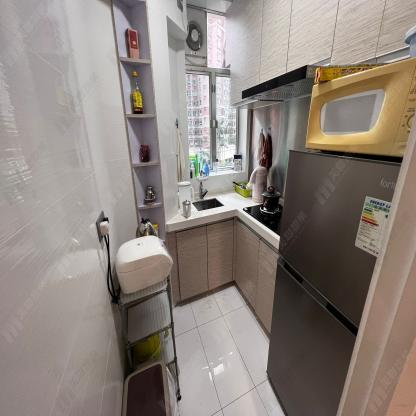Cupboard: (224, 0, 416, 104), (166, 216, 276, 342)
Exhaust Hood: (242, 64, 320, 100)
Faucet: (196, 167, 210, 199)
Fridge: (266, 150, 400, 415)
Microwave: (305, 56, 416, 158)
Sink: (192, 198, 224, 211)
Stove: (243, 199, 282, 234)
